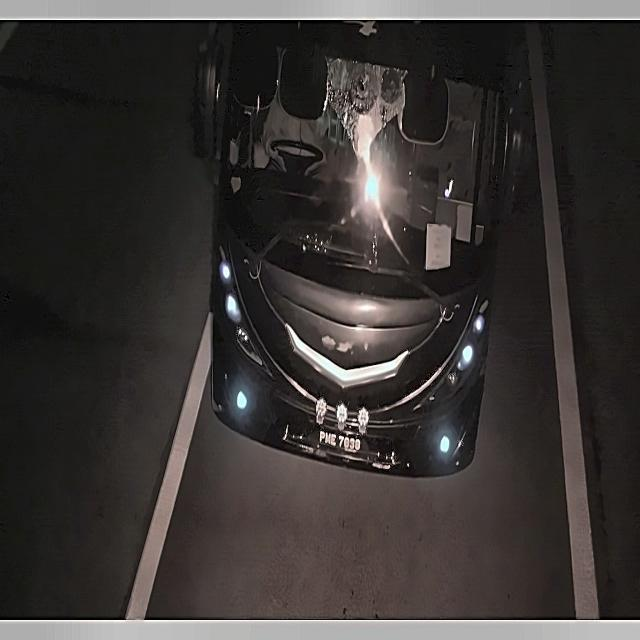car: (313, 412, 363, 456)
